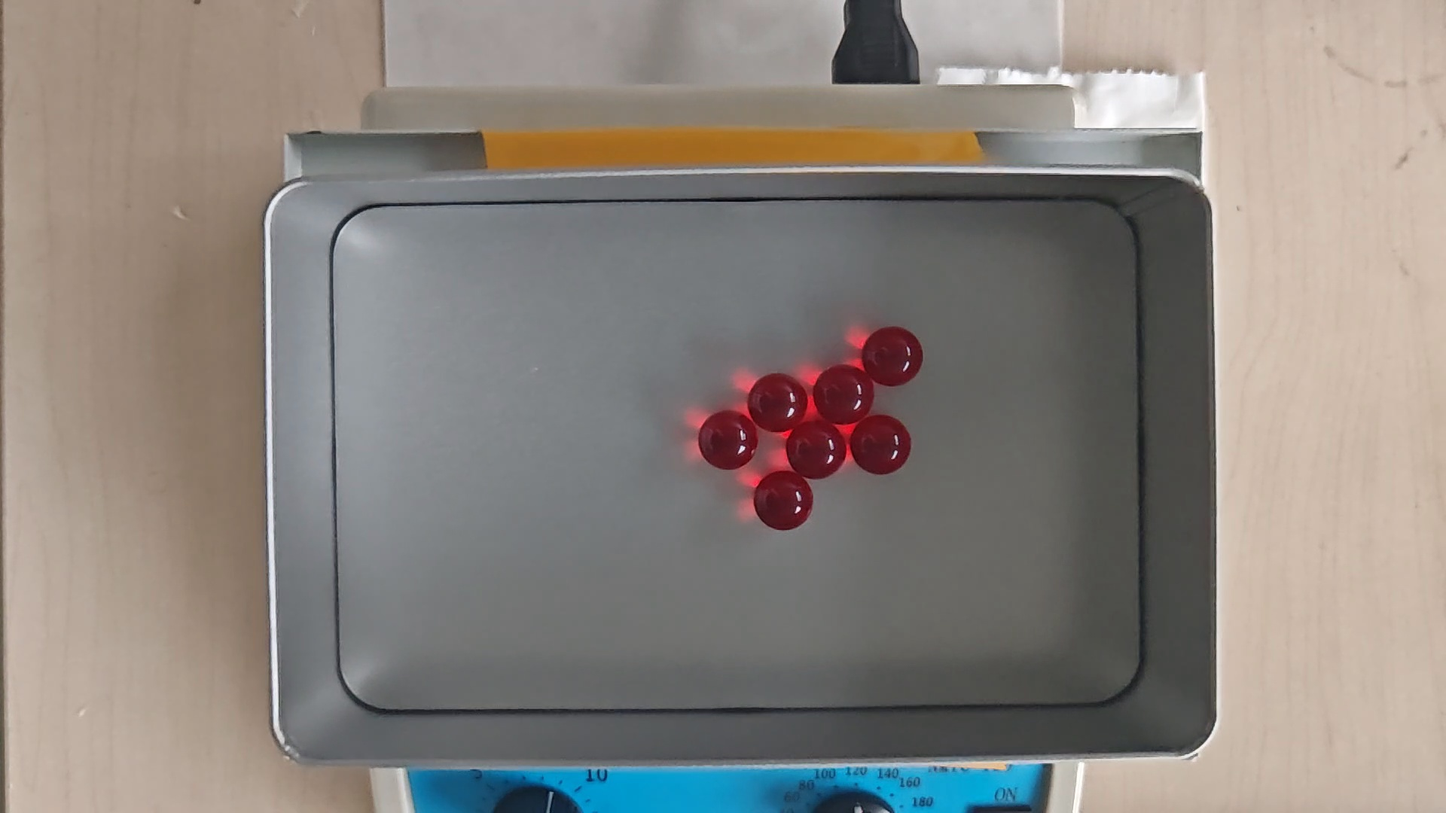ball: (860, 325, 924, 387), (851, 413, 913, 475), (697, 410, 758, 471), (753, 471, 815, 531), (747, 373, 807, 434), (786, 421, 847, 479), (816, 366, 874, 424)
container: (334, 198, 1142, 710)
